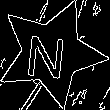N_N: (28, 26, 74, 80)
